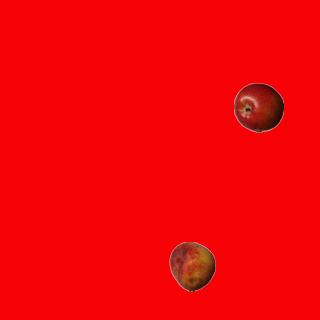Apple Braeburn: (233, 82, 283, 132)
Peach: (167, 241, 217, 291)
